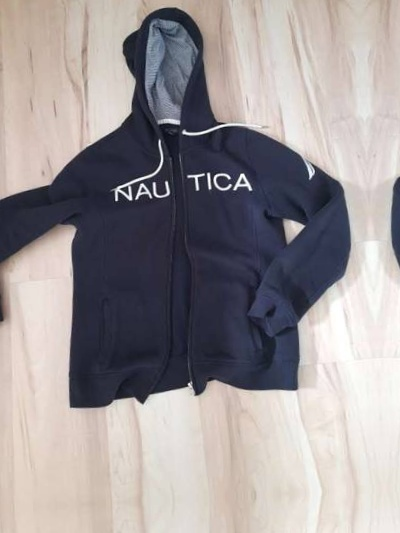Hoodie: (0, 1, 353, 389), (385, 0, 400, 366)
